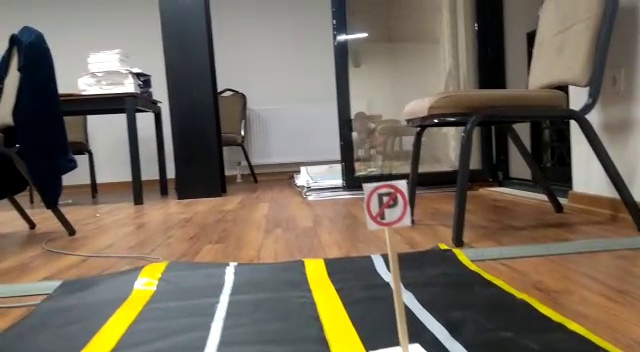park_yapilmaz: (367, 182, 410, 227)
